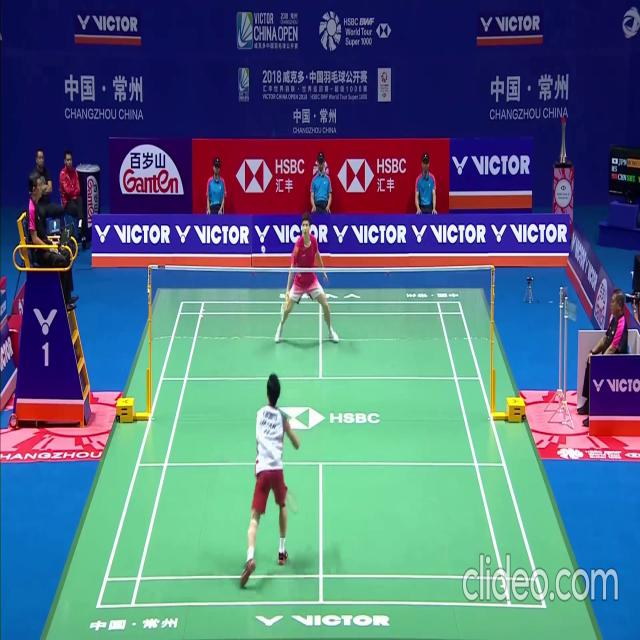Shuttlecock: (261, 246, 265, 254)
